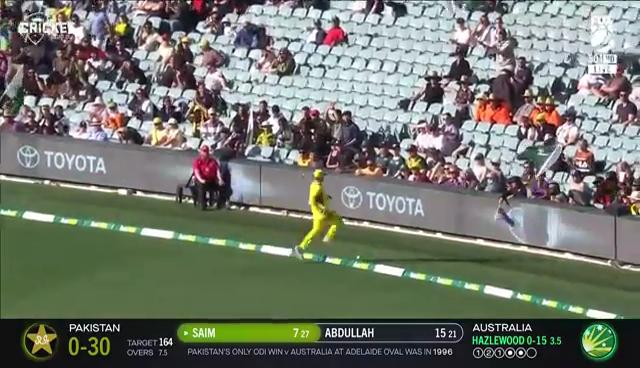ball: (355, 254, 363, 260)
